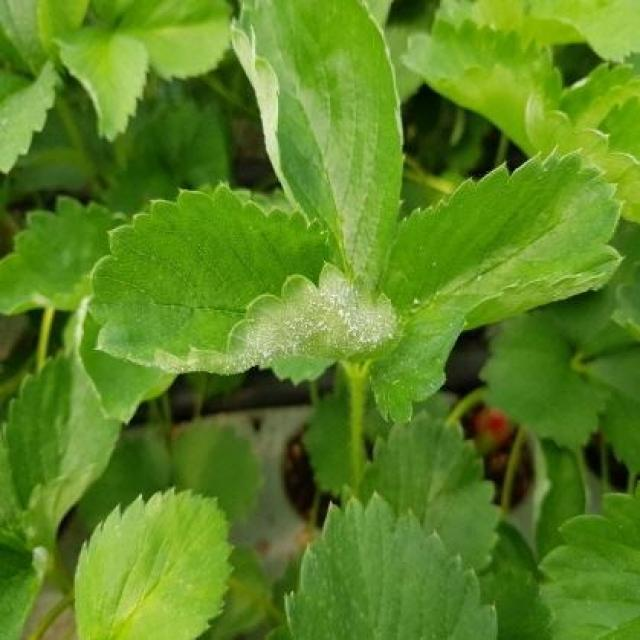powdery_mildew_leaf: (362, 140, 627, 428), (86, 183, 407, 376), (229, 0, 405, 287)
